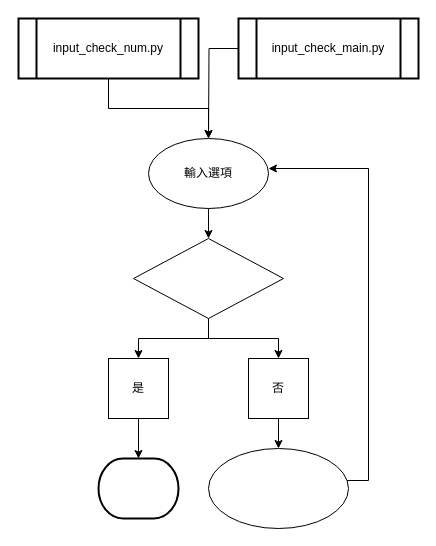
Image size: 436x546. Some labels were removed from this diagram. The shapes that lost their labels are listed below. From the top down, each one's box as (x1, y1, x2, y2) in pixels, then its label:
(132, 238, 284, 318): 是否為數字，且不為0
(97, 457, 179, 519): end
(208, 448, 348, 528): 請輸入正確選項 None
